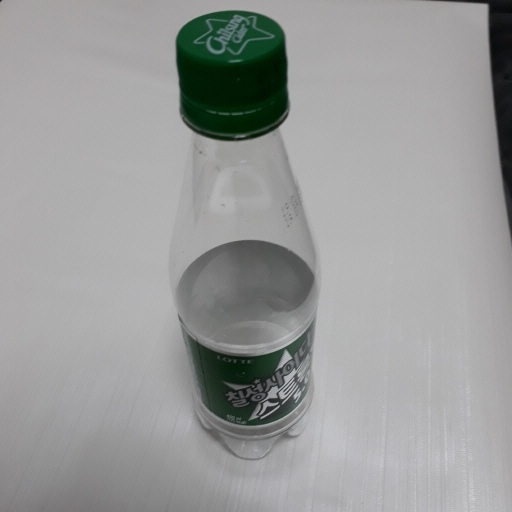Plastic_0: (167, 12, 324, 464)
